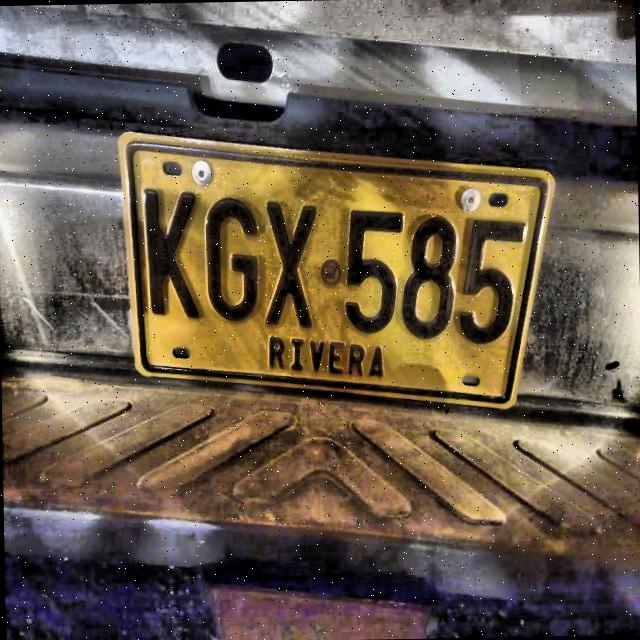5: (451, 215, 529, 349), (338, 206, 409, 338)
8: (396, 209, 460, 342)
G: (202, 194, 262, 328)
K: (140, 184, 207, 324)
X: (260, 198, 325, 332)
